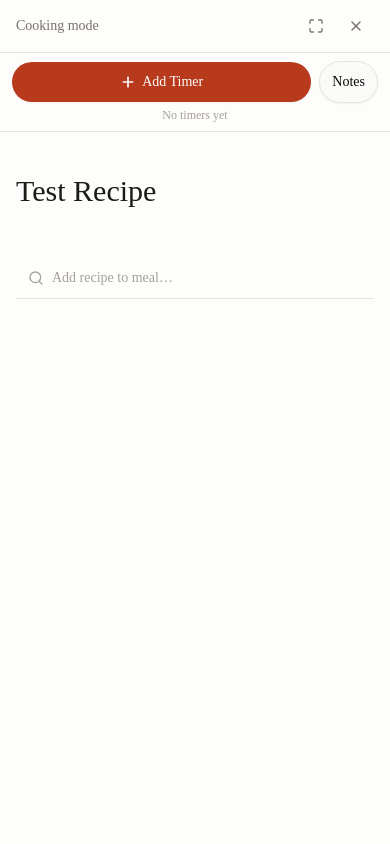
Test: CookingMode — cooking notes › opens the notes modal holding the recipe's saved notes
The width and height of the screenshot is (390, 844).
Click the button "Notes" at (349, 82), box top-left (319, 61), bottom-right (378, 103)
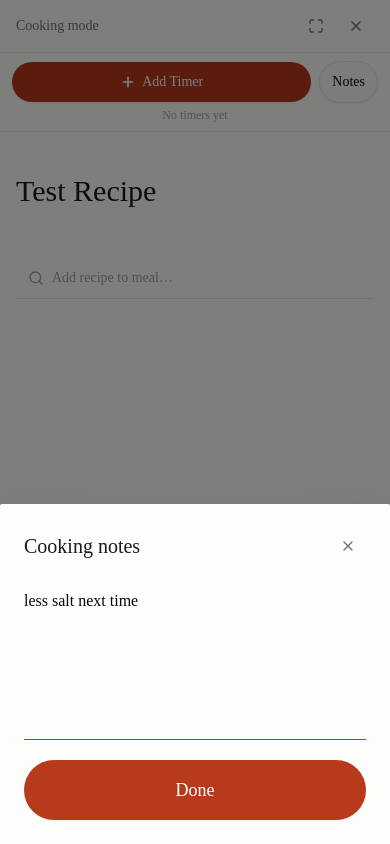
Expected: the text box with placeholder "Note changes for next time…" holds "less salt next time", top-left (24, 580), bottom-right (366, 740)
